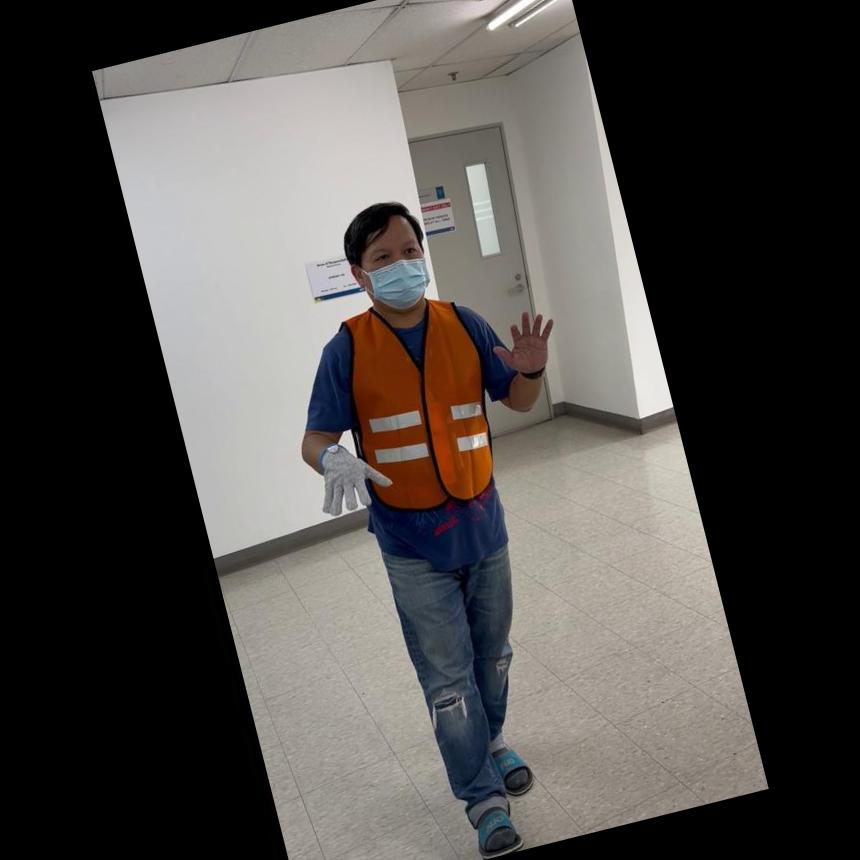Gloves: (302, 428, 396, 522)
No-gloves: (484, 300, 562, 382)
